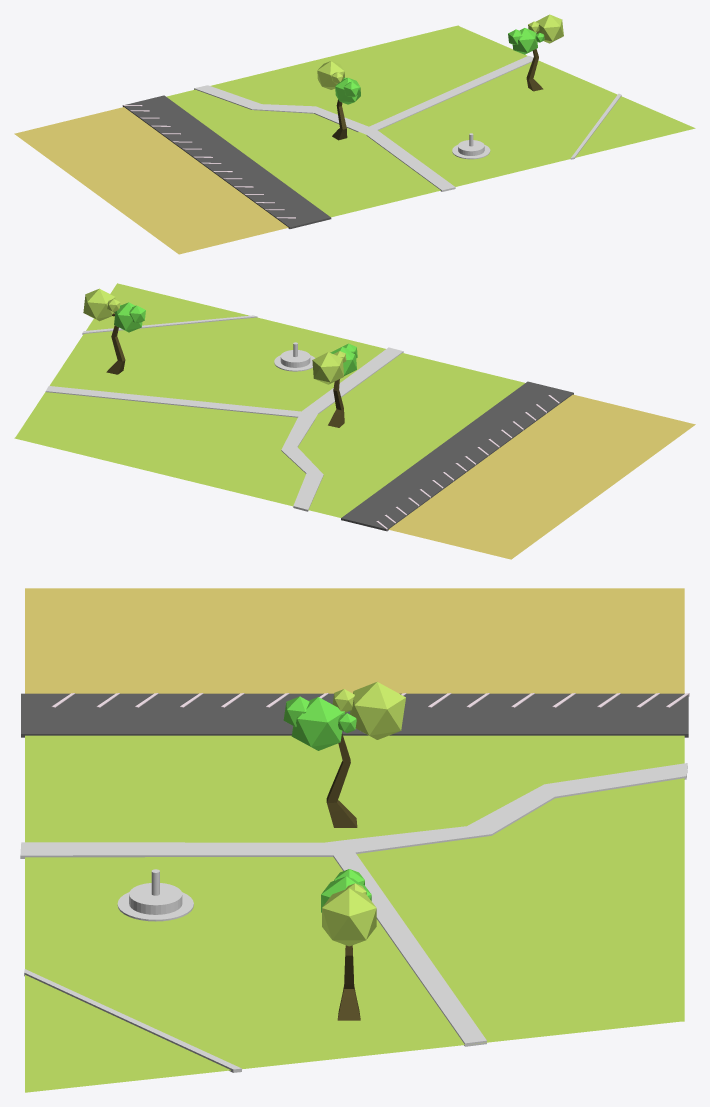
Rendered from ComLocation.fbx.
3 renders of one model, top to bottom at view 1: azimuth 30°, elevation 25°; view 2: azimuth 150°, elevation 25°; view 3: azimuth 270°, elevation 25°, orthographic. The views are drawn at different scales.
Visible parts, largest first — view 1: Grass, Road, SideWalk, Something, Icosphere.001, ParkingSpaces, Icosphere.006, Icosphere.003; view 2: Grass, Road, SideWalk, Icosphere.006, Something, Icosphere.001, randomConcrete, Icosphere.003, ParkingSpaces, Tree.001, Tree; view 3: Grass, Road, SideWalk, Icosphere.001, Something, Icosphere.006, Icosphere.008, randomConcrete, Tree.001, ParkingSpaces, Tree.
Part boxes in pixels (bbox=[...]): Grass: bbox=[14, 25, 695, 254]; Road: bbox=[123, 95, 331, 228]; SideWalk: bbox=[194, 55, 533, 191]; Something: bbox=[452, 133, 490, 159]; Icosphere.001: bbox=[535, 14, 563, 43]; ParkingSpaces: bbox=[122, 105, 295, 218]; Icosphere.006: bbox=[317, 61, 344, 89]; Icosphere.003: bbox=[512, 28, 537, 54]; Grass: bbox=[14, 283, 695, 559]; Road: bbox=[341, 381, 573, 531]; SideWalk: bbox=[45, 347, 403, 511]; Icosphere.006: bbox=[312, 352, 343, 384]; Something: bbox=[274, 342, 315, 371]; Icosphere.001: bbox=[83, 288, 115, 321]; randomConcrete: bbox=[82, 315, 257, 334]; Icosphere.003: bbox=[114, 302, 142, 332]; ParkingSpaces: bbox=[376, 395, 559, 530]; Tree.001: bbox=[328, 379, 344, 427]; Tree: bbox=[106, 313, 125, 374]; Grass: bbox=[25, 588, 684, 1092]; Road: bbox=[21, 693, 688, 737]; SideWalk: bbox=[20, 763, 687, 1046]; Icosphere.001: bbox=[322, 888, 376, 946]; Something: bbox=[117, 869, 193, 921]; Icosphere.006: bbox=[350, 682, 405, 739]; Icosphere.008: bbox=[291, 697, 344, 750]; randomConcrete: bbox=[24, 969, 241, 1072]; Tree.001: bbox=[326, 733, 357, 827]; ParkingSpaces: bbox=[51, 693, 689, 707]; Tree: bbox=[337, 945, 360, 1020].
Size of the model in its own units: 62606 by 8791 by 35086.
